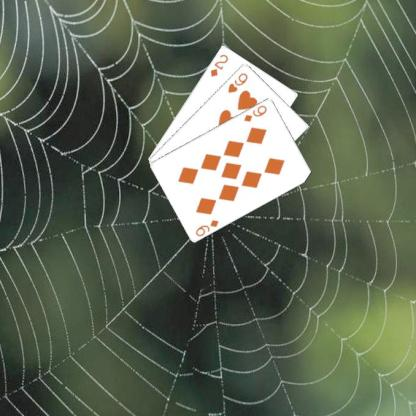2D: (207, 51, 230, 78)
9D: (192, 216, 220, 237), (241, 102, 268, 123)
9H: (225, 70, 249, 94)
